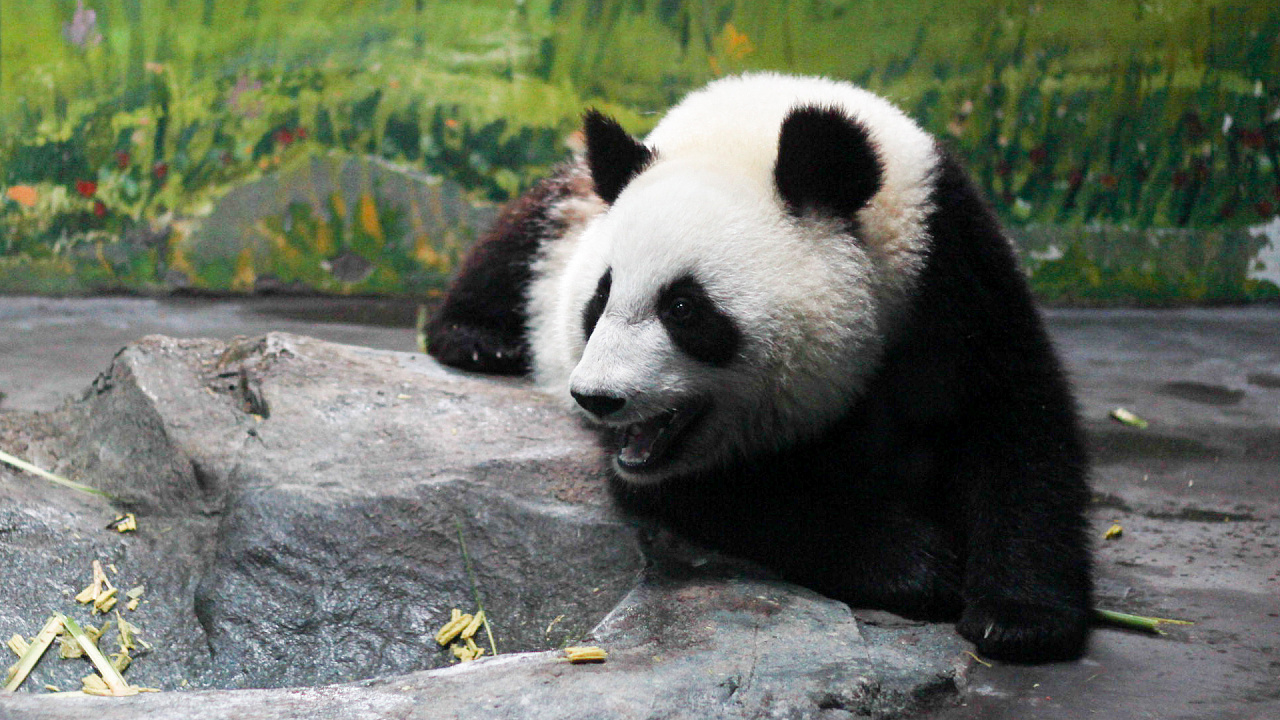panda: (435, 59, 1132, 668)
